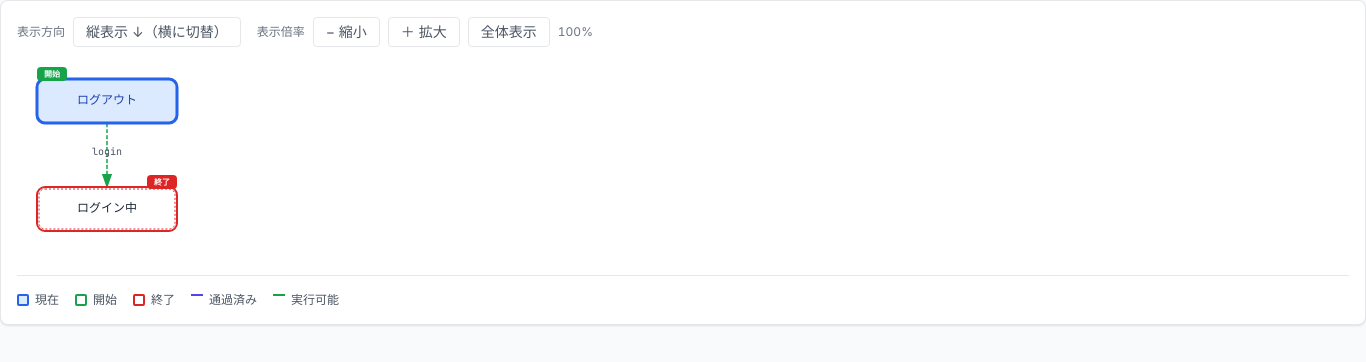
Scenario: StateDiagram zoom controls (SOT-948) › 拡大 increases the rendered diagram size and percentage
Click the button labelled "＋ 拡大".
click(424, 32)  # box 388,17 -> 460,47
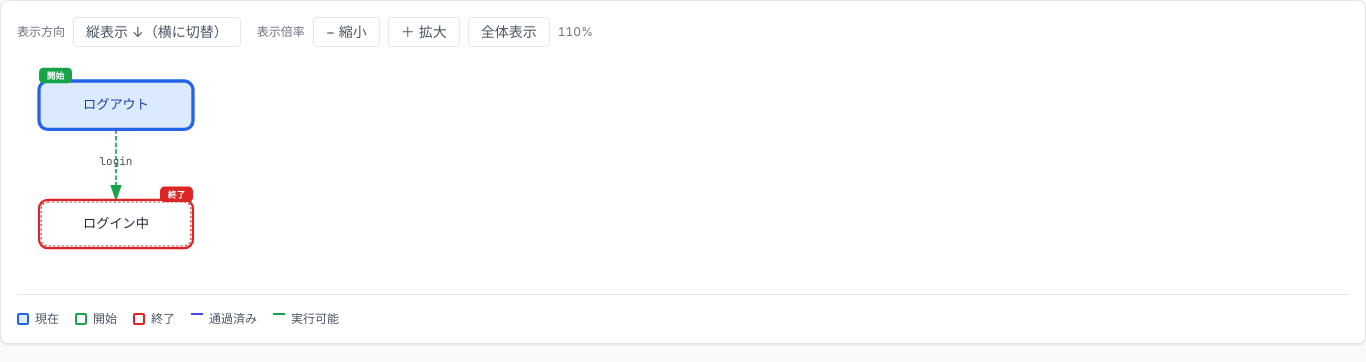
Expected: the text "110%" is shown, 558,24 -> 593,40
